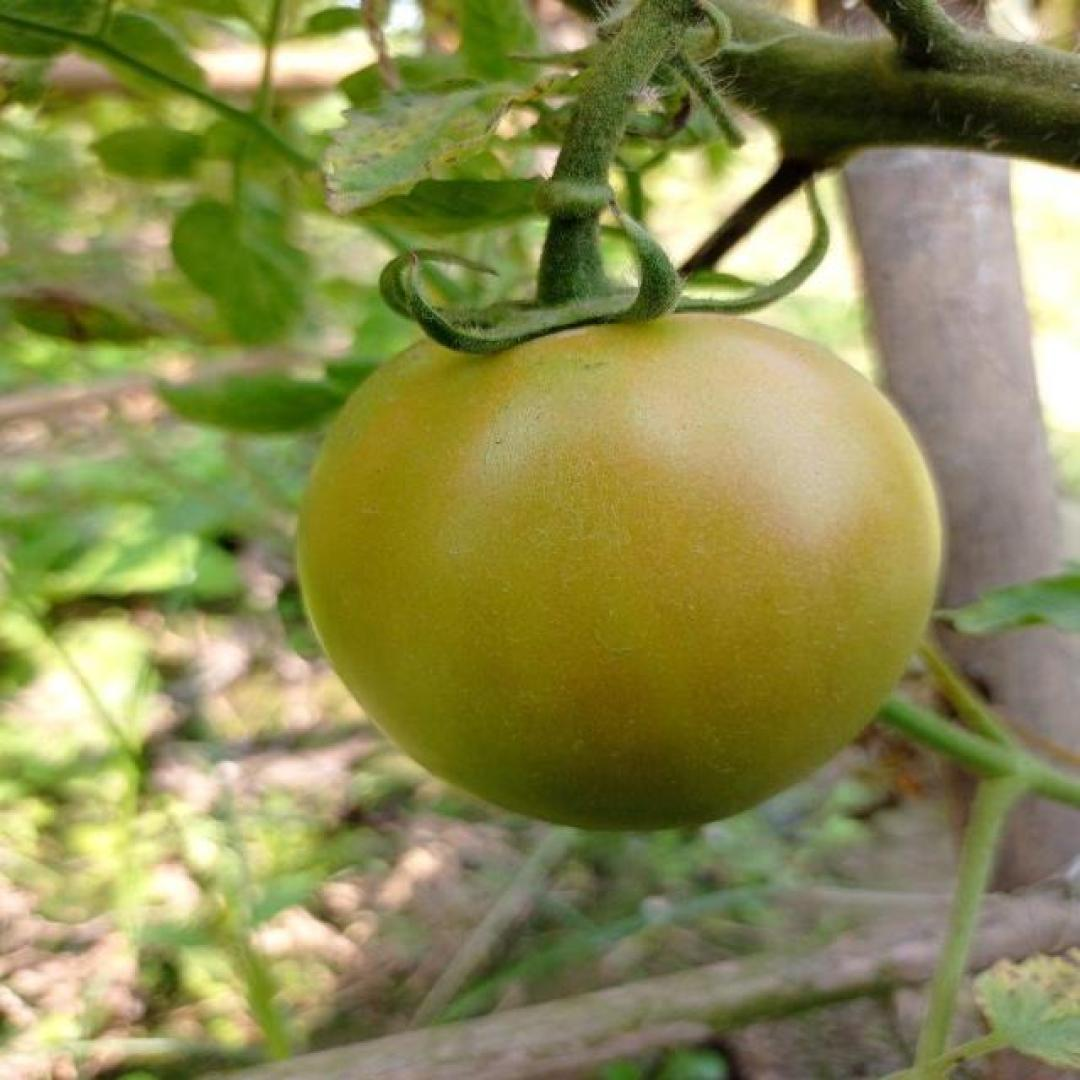setengah_matang: (292, 294, 948, 832)
